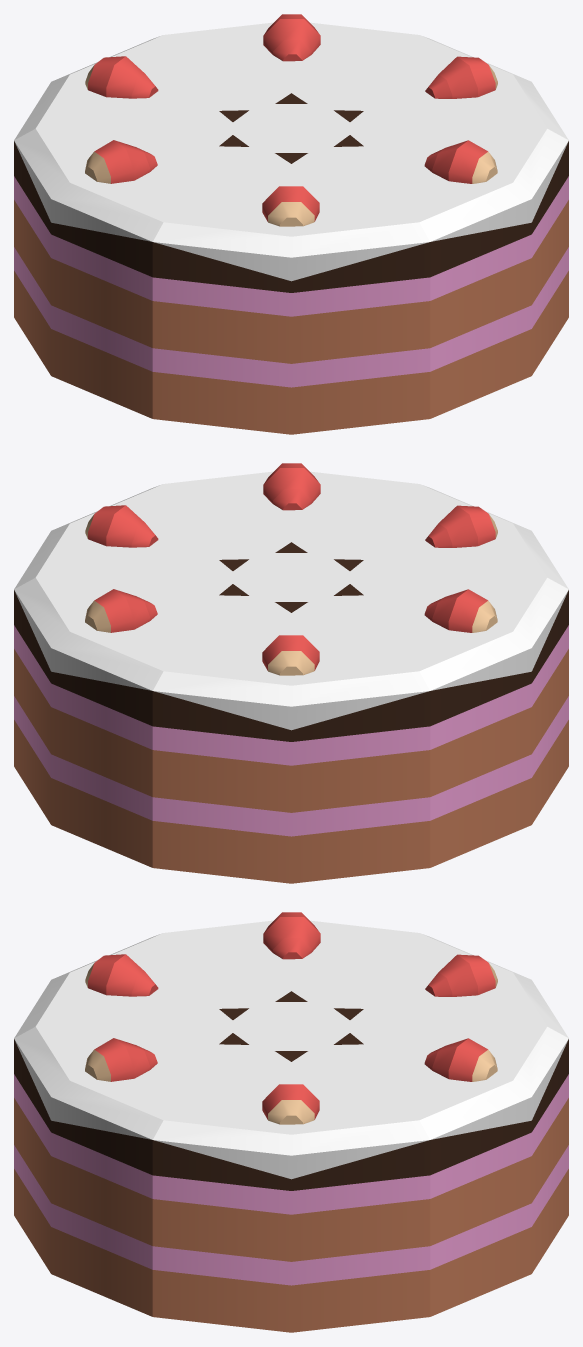
File: Cake.glb
The picture shows the model from 3 angles, top to bottom: view 1: azimuth 30°, elevation 25°; view 2: azimuth 150°, elevation 25°; view 3: azimuth 270°, elevation 25°; orthographic projection.
Parts seen in each view (by area): view 1: slice_4, slice, slice_5, slice_3, slice_1, slice_2; view 2: slice_3, slice_2, slice_5, slice_1, slice_4, slice; view 3: slice_1, slice, slice_2, slice_4, slice_3, slice_5.
Part boxes in pixels (bbox=[...]): slice_4: bbox=[152, 129, 430, 434]; slice: bbox=[292, 128, 568, 418]; slice_5: bbox=[14, 128, 290, 418]; slice_3: bbox=[14, 35, 290, 139]; slice_1: bbox=[292, 35, 568, 139]; slice_2: bbox=[164, 14, 418, 128]; slice_3: bbox=[152, 578, 430, 883]; slice_2: bbox=[14, 577, 290, 867]; slice_5: bbox=[292, 577, 568, 867]; slice_1: bbox=[14, 484, 290, 588]; slice_4: bbox=[292, 484, 568, 588]; slice: bbox=[164, 463, 418, 577]; slice_1: bbox=[152, 1027, 430, 1332]; slice: bbox=[14, 1026, 290, 1316]; slice_2: bbox=[292, 1026, 568, 1316]; slice_4: bbox=[14, 933, 290, 1037]; slice_3: bbox=[292, 933, 568, 1037]; slice_5: bbox=[164, 912, 418, 1026].
Size of the model in its own units: 0.6392 by 0.2731 by 0.6392.
